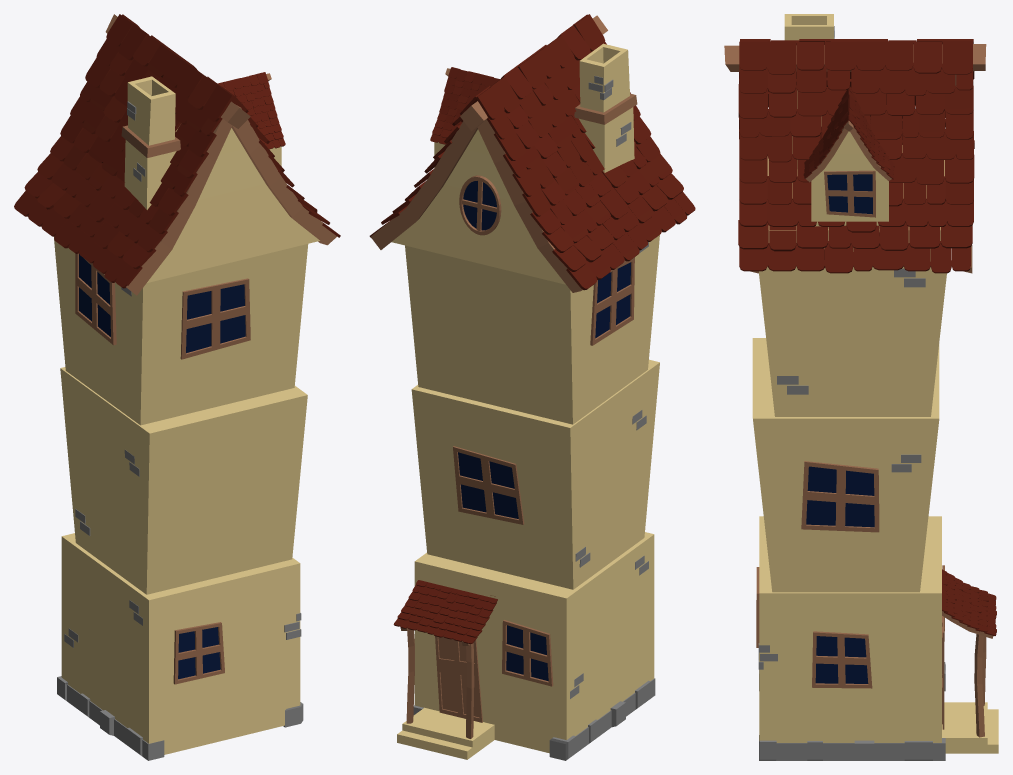
Rendered from house3.fbx.
The picture shows the model from 3 angles, left to right: view 1: azimuth 30°, elevation 25°; view 2: azimuth 150°, elevation 25°; view 3: azimuth 270°, elevation 25°; orthographic projection. The views are drawn at different scales.
Parts seen in each view (by area): view 1: Cube.395; view 2: Cube.395; view 3: Cube.395.
Boxes of the visible parts, x1,y1,x2,y2 form: Cube.395: (14,14,340,760); Cube.395: (369,14,695,760); Cube.395: (724,14,998,760).
Bounding box in the file's own units: 14.4 × 40.79 × 14.86.
